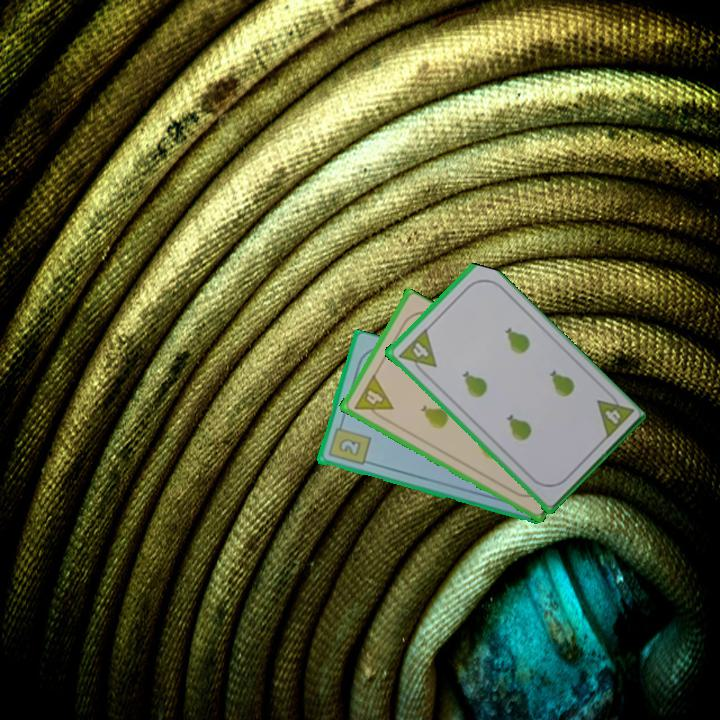2b: (325, 419, 373, 468)
4p: (592, 387, 636, 442), (394, 326, 439, 379), (350, 372, 395, 424)
